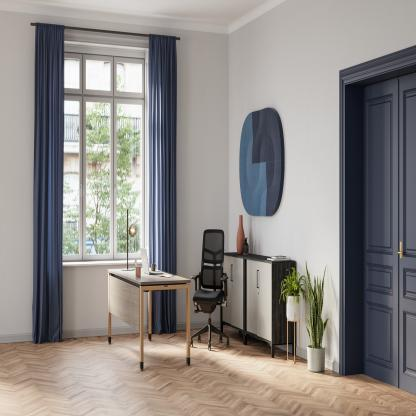chair: (191, 225, 238, 359)
door: (359, 68, 416, 392)
table: (104, 265, 192, 374)
